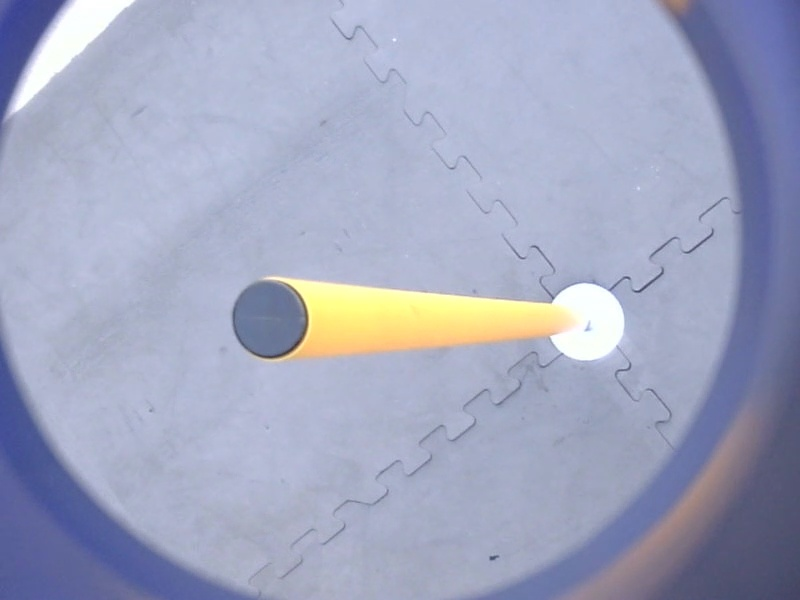tip: (223, 272, 316, 368)
